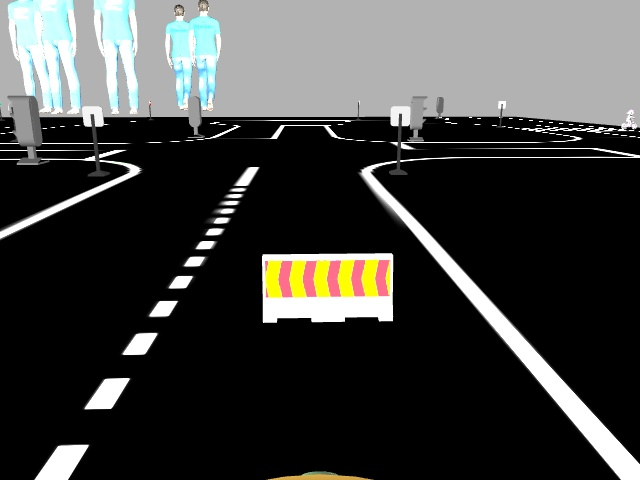ClosedRoadStand: (262, 253, 392, 320)
